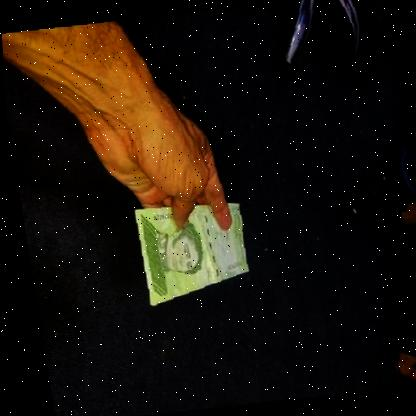fifty-front-vef: (131, 201, 249, 307)
